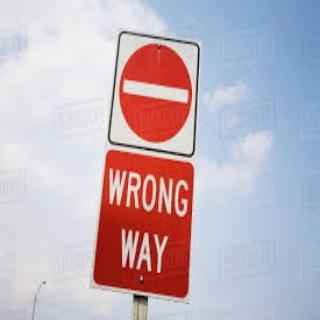sign_noentry: (107, 42, 198, 145)
